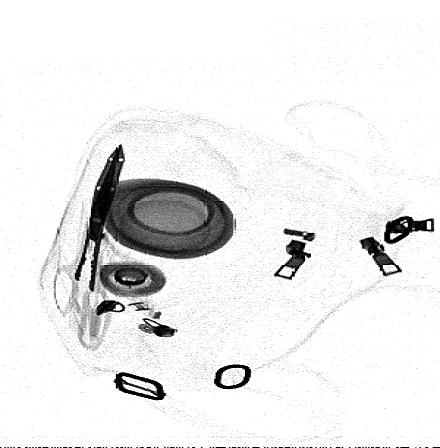Scissors: (46, 139, 133, 354)
